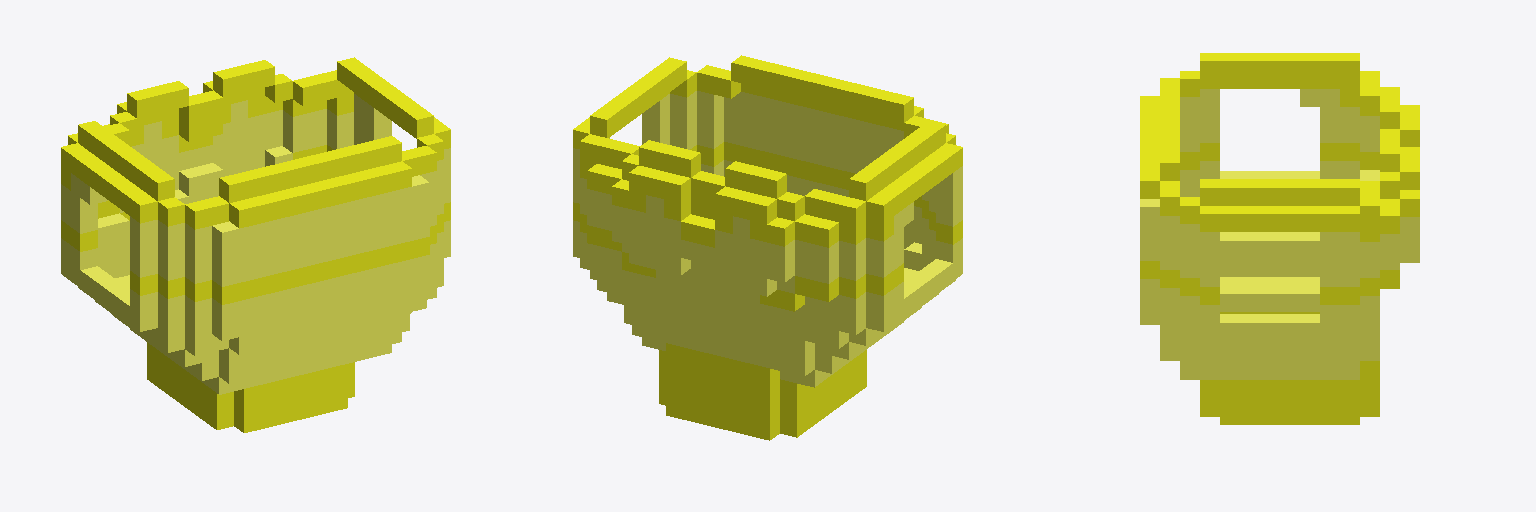
The picture shows the model from 3 angles: view 1: azimuth 30°, elevation 25°; view 2: azimuth 150°, elevation 25°; view 3: azimuth 270°, elevation 25°; orthographic projection.
Parts seen in each view (by area): view 1: object 1; view 2: object 1; view 3: object 1.
Boxes of the visible parts, box(x1,y1,x2,y2) form: object 1: box(61, 57, 450, 432); object 1: box(573, 55, 962, 440); object 1: box(1140, 53, 1419, 424).
Bounding box in the file's own units: 1.8 × 1.5 × 1.4.
Materials: 1 (1 with a texture image).